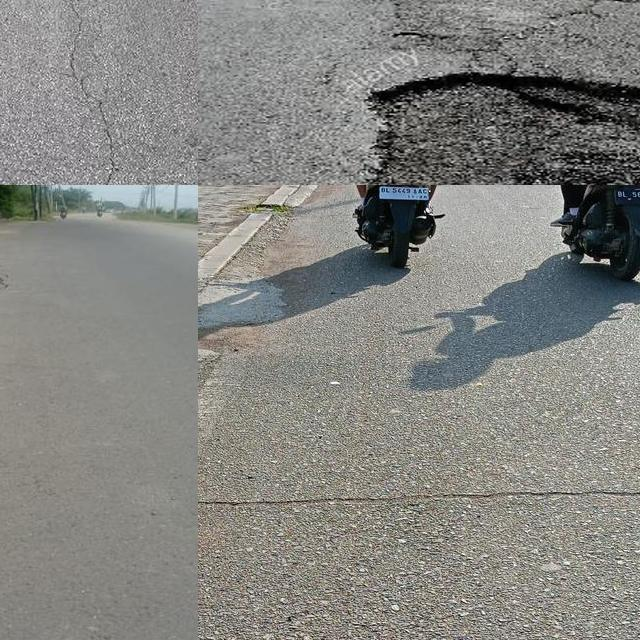Lubang: (366, 73, 640, 185)
Melintang: (198, 478, 640, 522)
Memanjang: (53, 0, 122, 185)
